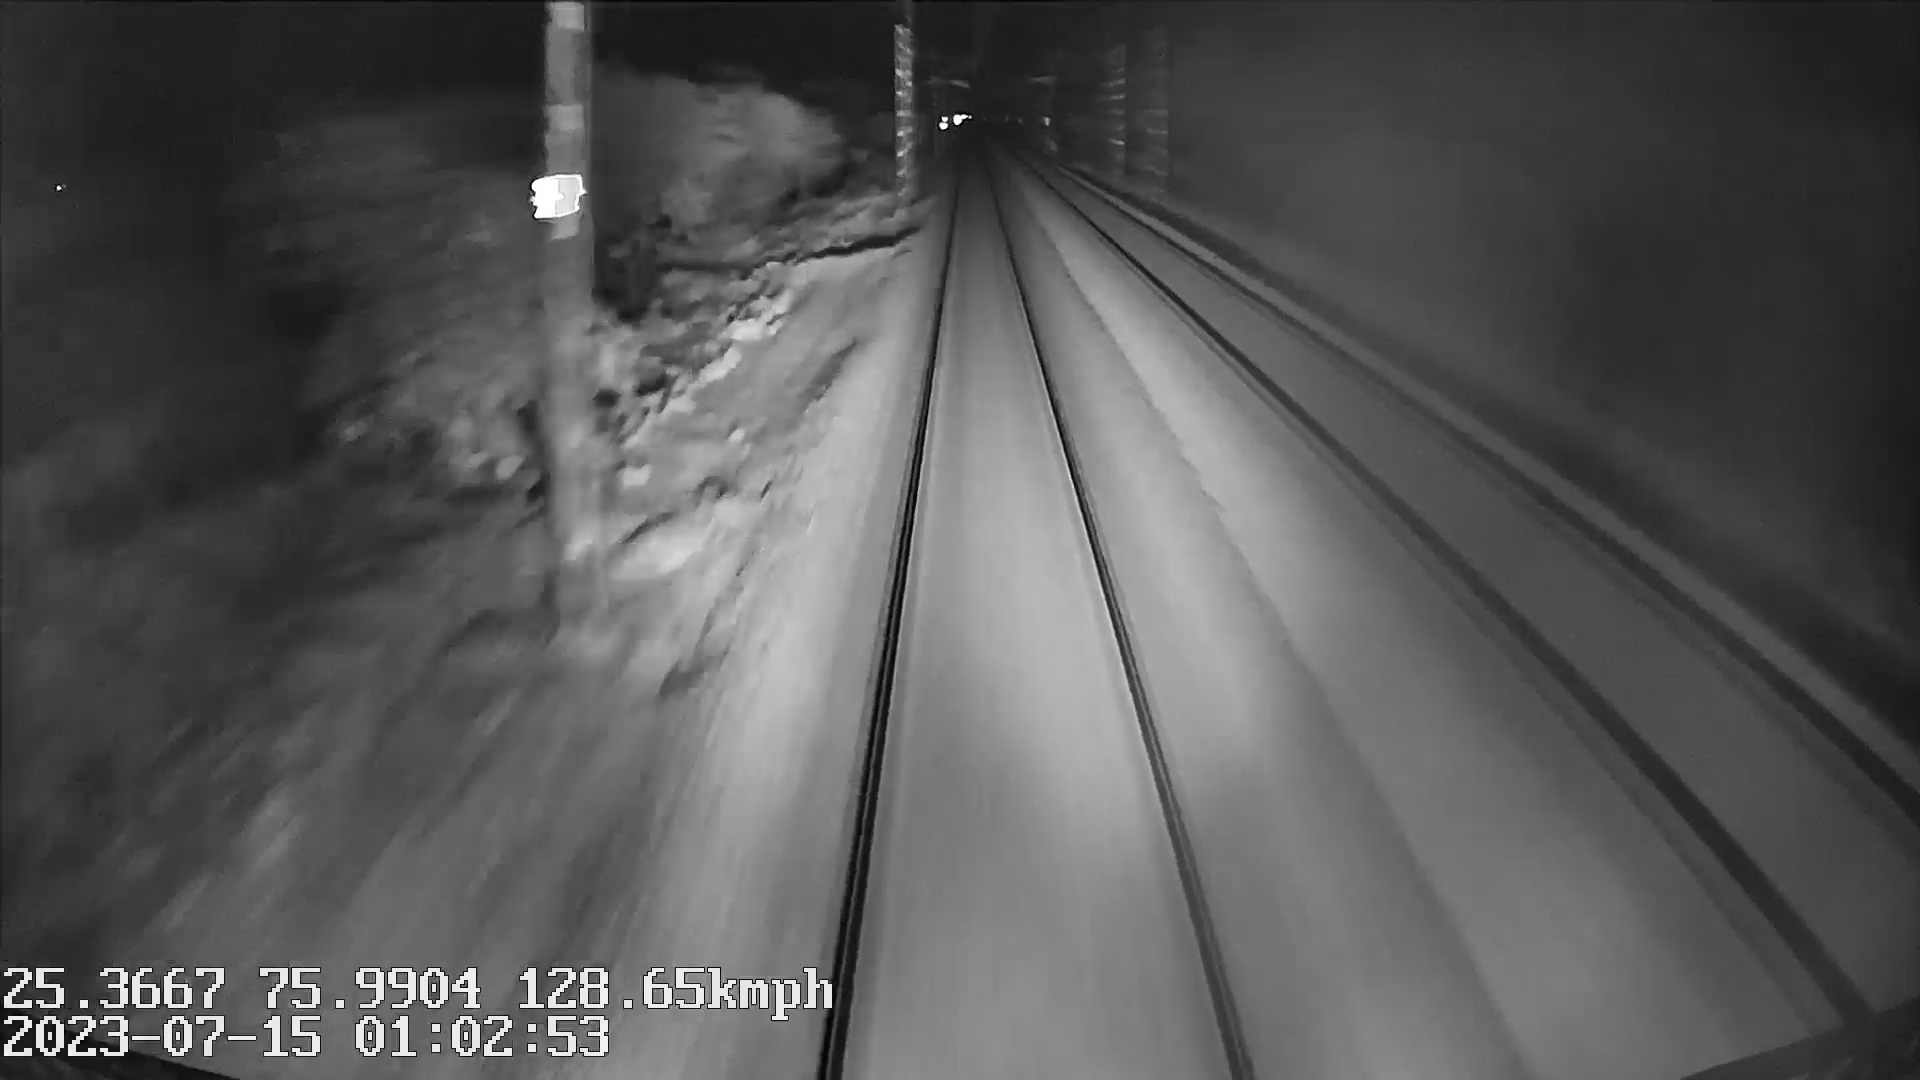track1: (835, 156, 1238, 1044)
track2: (1044, 174, 1902, 976)
